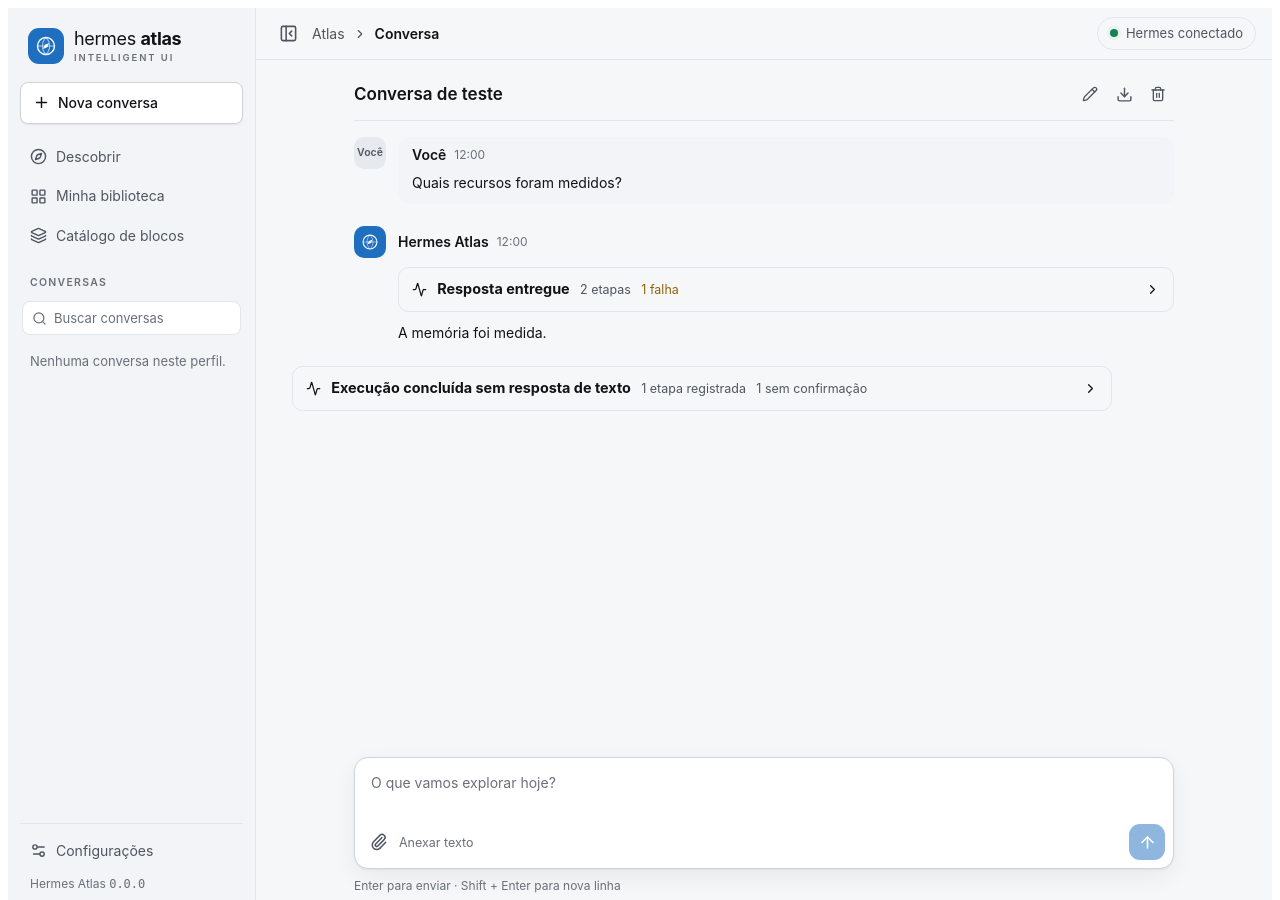
Test case: reopens the result and its individual tool outcomes in the real conversation view
Check: the text "A memória foi medida." is shown, box 398,324 -> 547,341
Click the heading "Resposta entregue 2 etapas 1 falha" at (503, 289), box 412,278 -> 1160,301
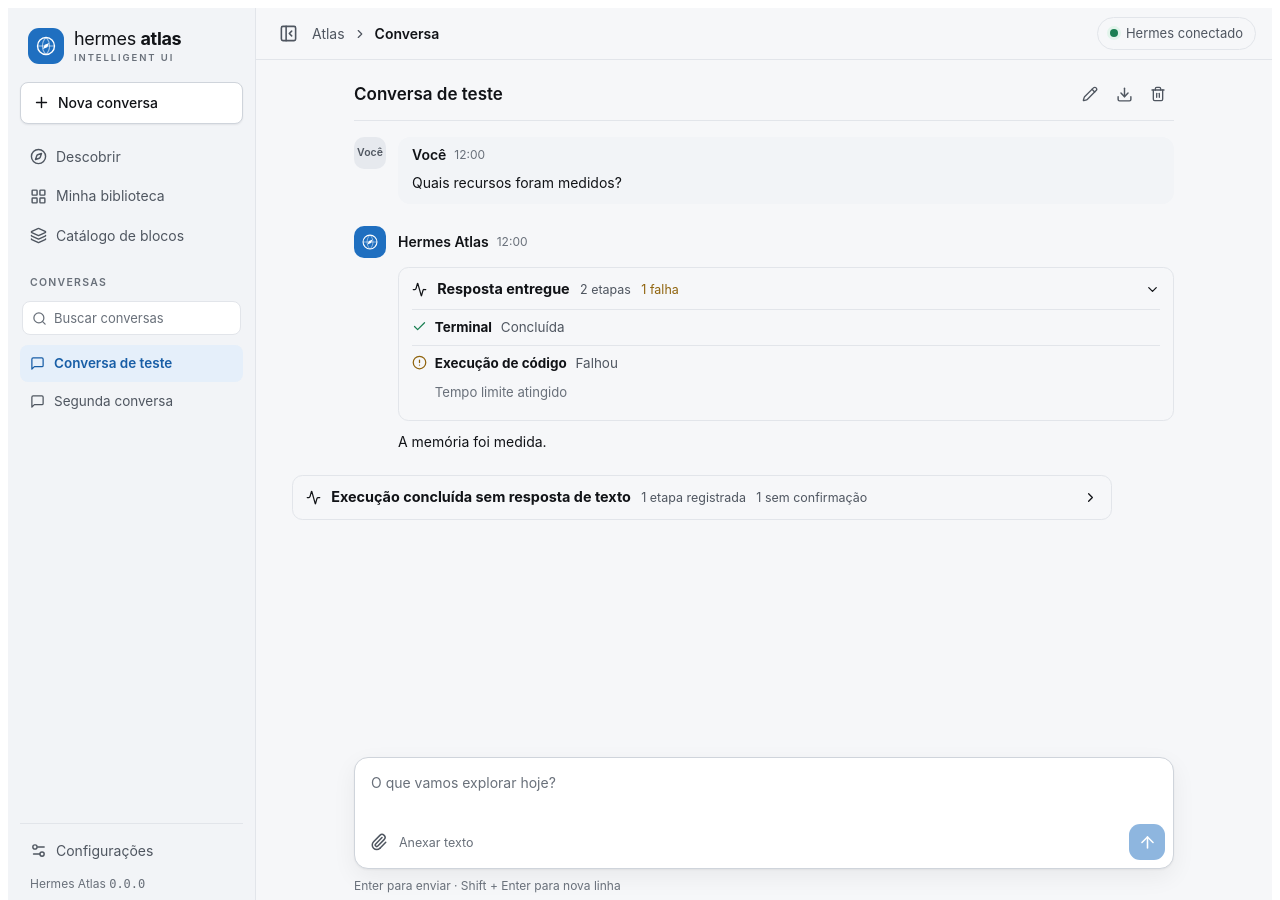
Check: the text "1 falha" is shown, box 641,280 -> 679,299
Check: the text "Tempo limite atingido" is shown, box 435,384 -> 567,400
